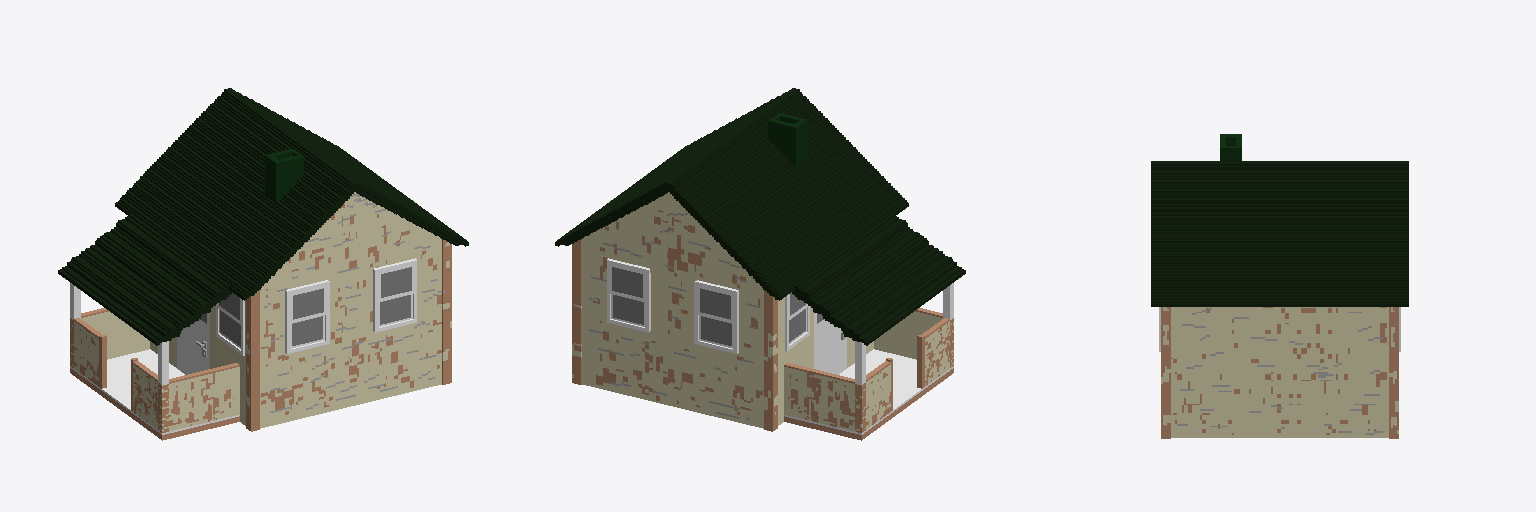
3 renders of one model, left to right at view 1: azimuth 30°, elevation 25°; view 2: azimuth 150°, elevation 25°; view 3: azimuth 270°, elevation 25°, orthographic.
Parts seen in each view (by area): view 1: object 1; view 2: object 1; view 3: object 1.
Part boxes in pixels (bbox=[...]): object 1: bbox=[58, 88, 468, 440]; object 1: bbox=[555, 88, 965, 440]; object 1: bbox=[1151, 134, 1408, 438].
Size of the model in its own units: 16.9 by 12.7 by 12.7.
1 materials, 1 textured.